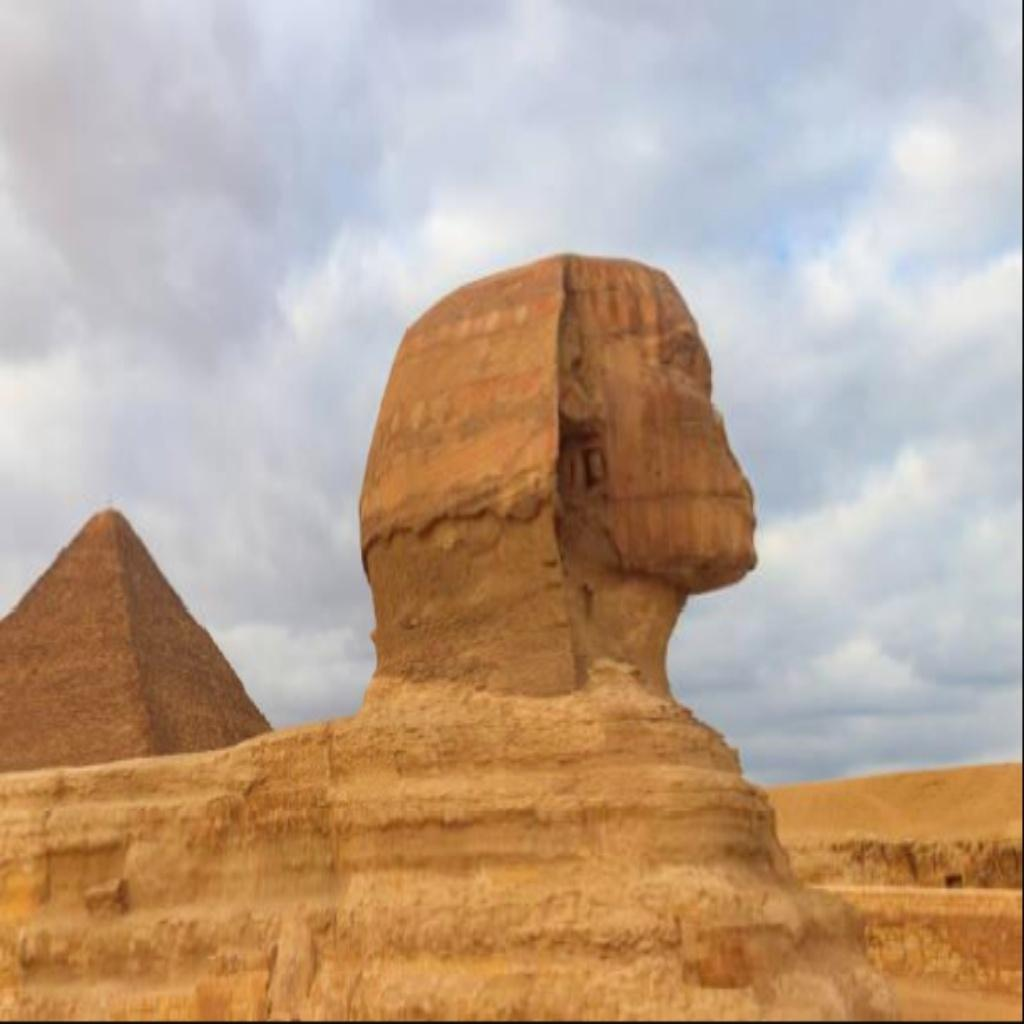Sphinx: (0, 246, 905, 1019)
